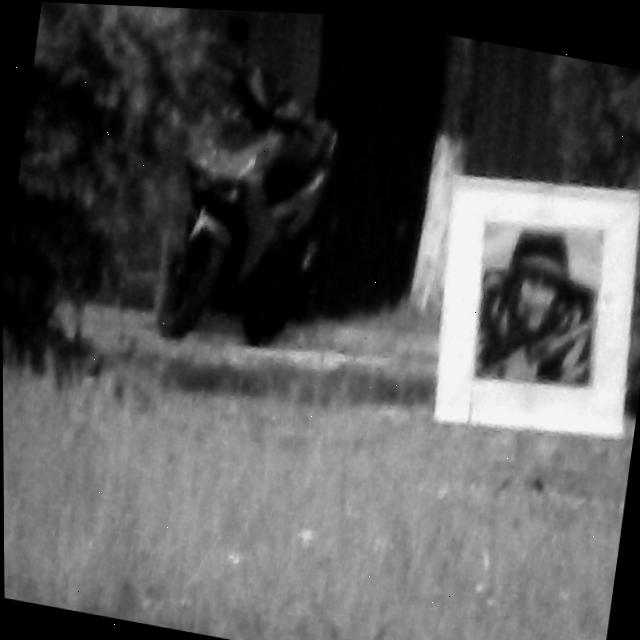bia: (474, 214, 606, 383)
